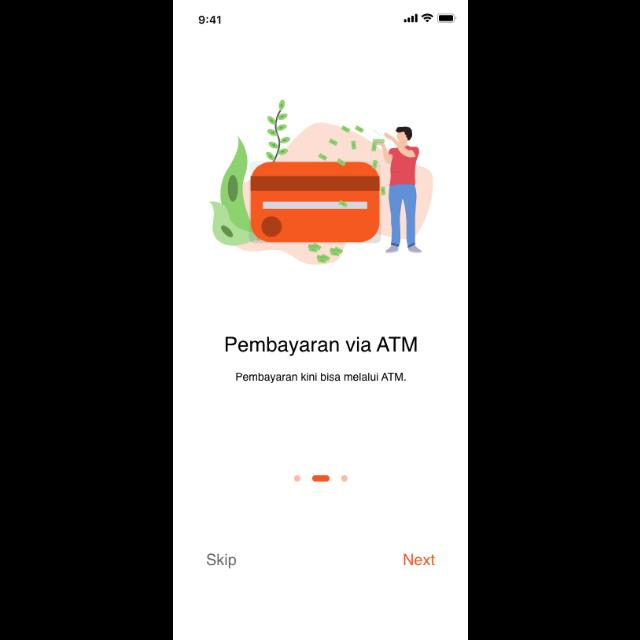image: (208, 99, 434, 265)
pageindicator: (294, 474, 348, 482)
text: (225, 337, 417, 357), (236, 372, 407, 383), (206, 553, 236, 569), (403, 554, 435, 566)
uppertaskbar: (198, 13, 456, 24)
